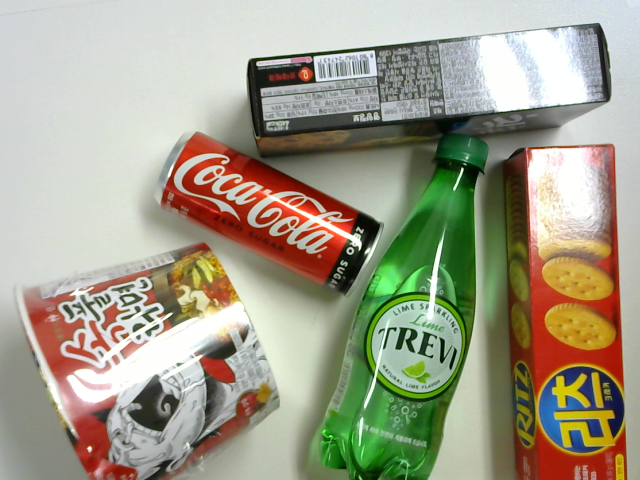Chicchok_Original_2400: (233, 19, 616, 166)
Coca_Cola_Zero_Can_250ml: (150, 128, 382, 300)
Hejangpul: (14, 230, 284, 480)
Ritz_Cracker: (495, 137, 640, 479)
Treviraim_500ml: (303, 124, 498, 480)
